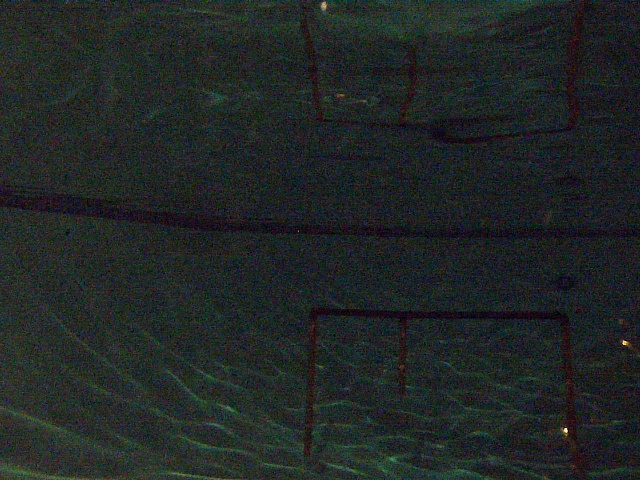Gate: (557, 320, 583, 460), (302, 315, 317, 456), (394, 316, 409, 395)
